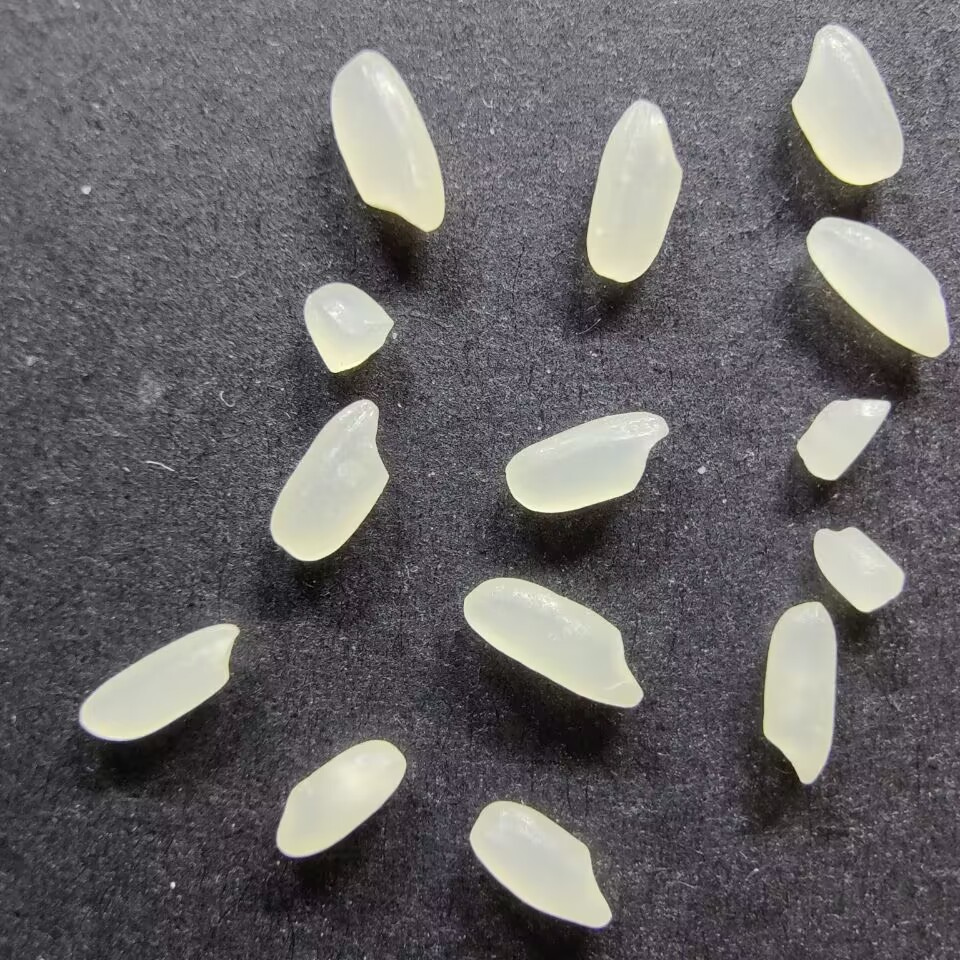broken: (301, 279, 394, 374), (811, 524, 907, 614), (794, 395, 892, 483)
rice: (460, 575, 646, 710), (328, 48, 447, 232), (268, 397, 394, 563), (805, 215, 952, 357), (76, 619, 240, 741), (791, 23, 907, 187), (468, 799, 613, 929), (585, 97, 683, 283), (501, 407, 670, 514), (275, 738, 407, 859), (761, 602, 838, 786)
